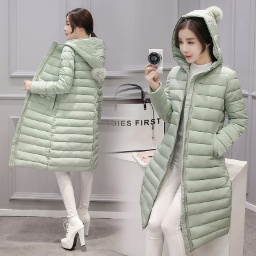face: (172, 9, 223, 74), (58, 8, 99, 50)
